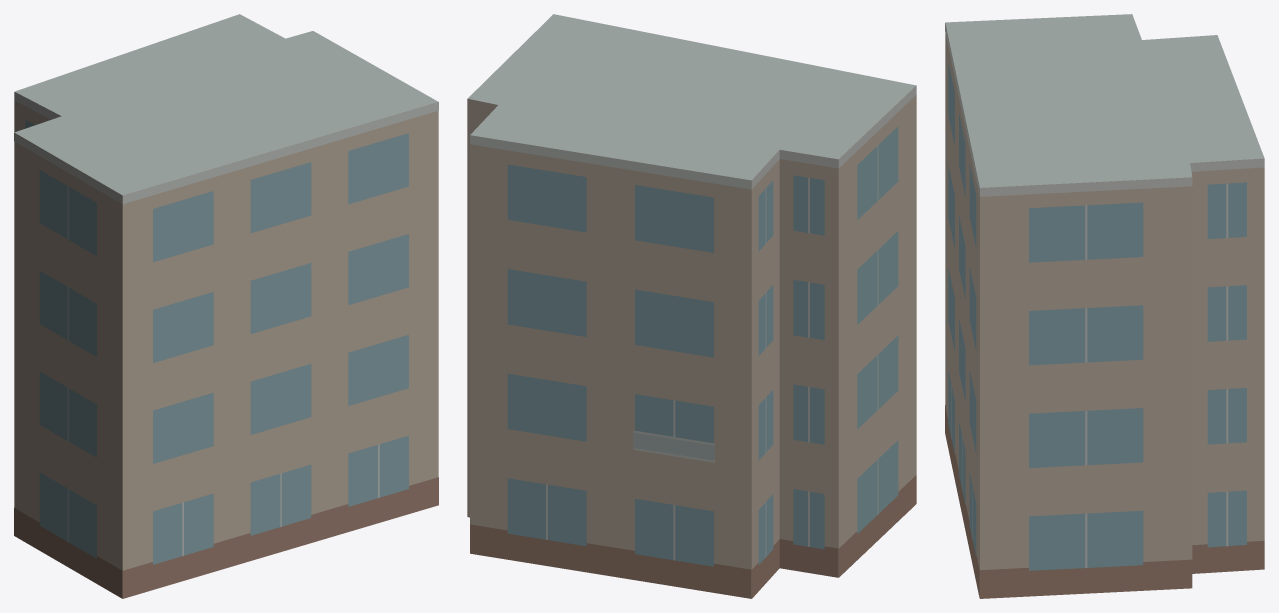
The model's file is survey-upis-32640327.glb.
The picture shows the model from 3 angles, left to right: view 1: azimuth 30°, elevation 25°; view 2: azimuth 150°, elevation 25°; view 3: azimuth 270°, elevation 25°; orthographic projection. The views are drawn at different scales.
Visible parts, largest first — view 1: survey-upis-32640327.tmp; view 2: survey-upis-32640327.tmp; view 3: survey-upis-32640327.tmp.
Part boxes in pixels (left/top/right/bottom): survey-upis-32640327.tmp: left=14, top=14, right=438, bottom=598; survey-upis-32640327.tmp: left=467, top=14, right=916, bottom=598; survey-upis-32640327.tmp: left=945, top=14, right=1264, bottom=598.
Size of the model in its own units: 10.17 by 11.2 by 7.9.
